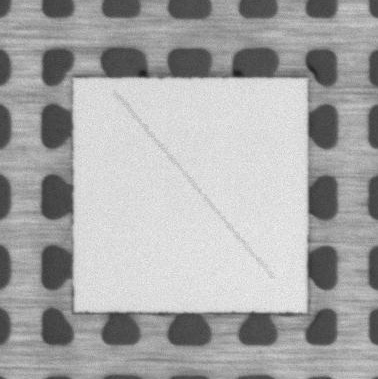DIE_CRACK: (115, 92, 273, 279)
